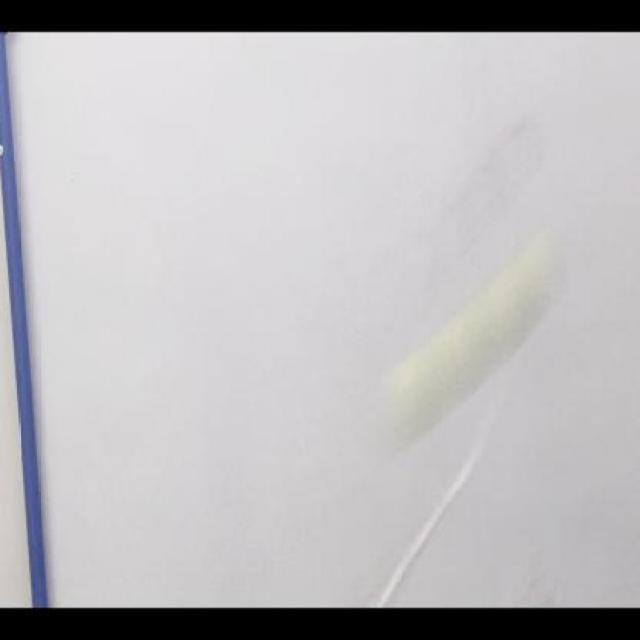baseball: (367, 232, 575, 460)
